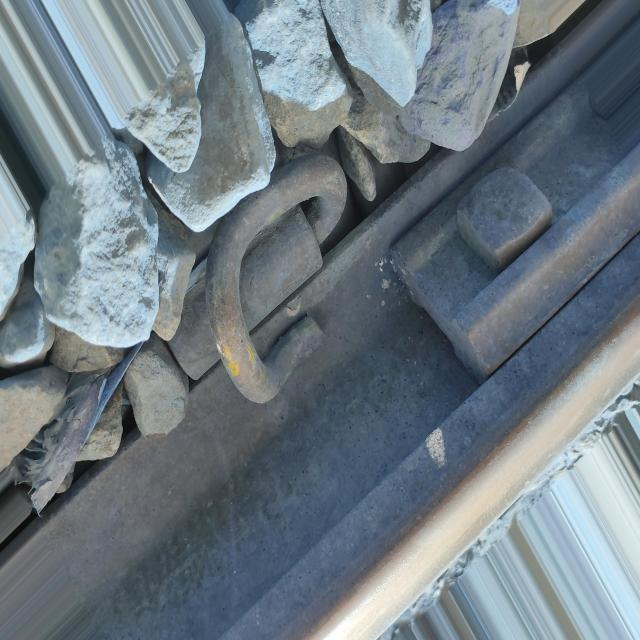Good Fasteners: (165, 148, 348, 420)
